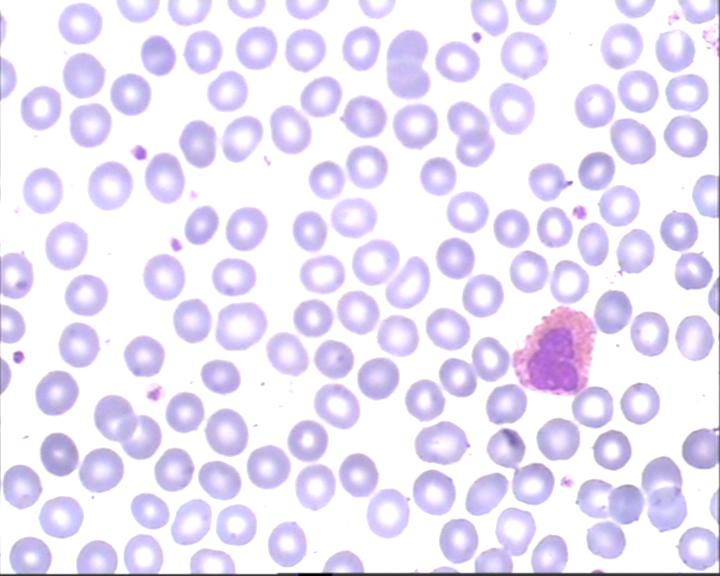eosi: (511, 299, 599, 395)
